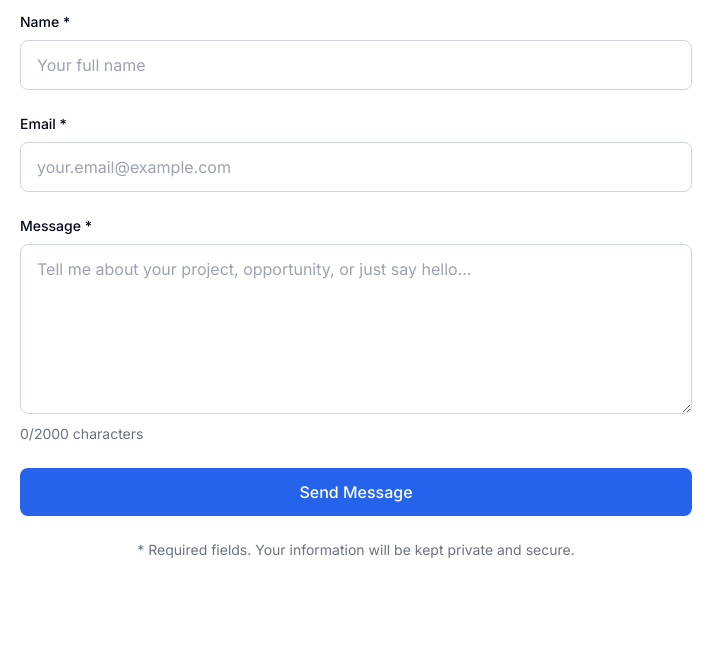
Scenario: ContactForm › shows validation error for short message
In the text box labelled "Message *": (356, 329) [20,244,692,414], type "short"
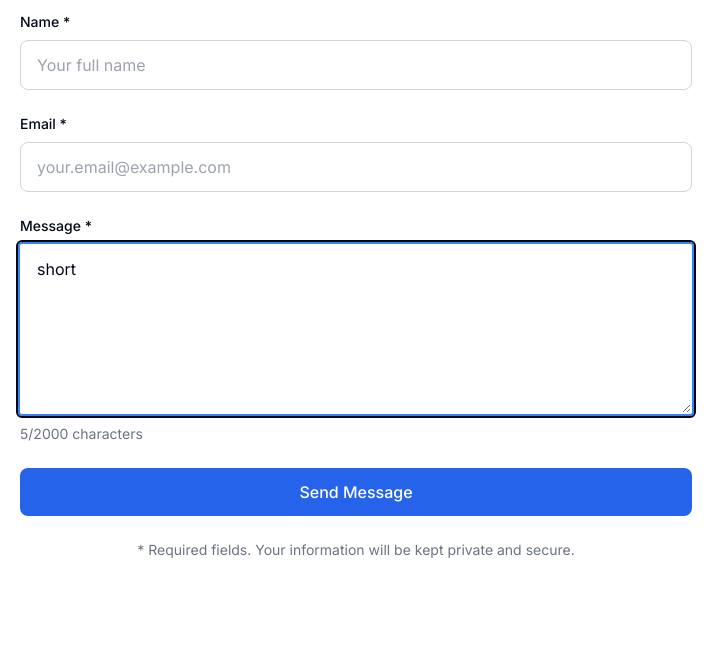
Click the button "Send Message": (356, 492) [20,468,692,516]
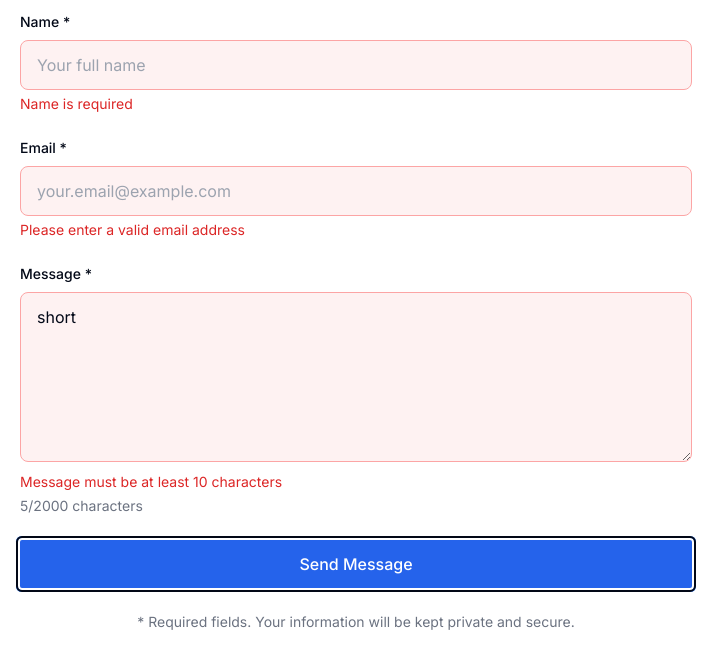
Check: the text "Message must be at least 10 characters" is shown, box [20,473,282,490]
